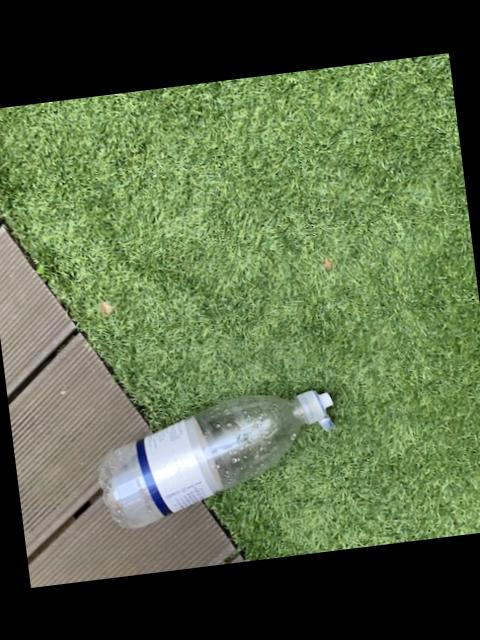plastic: (97, 389, 330, 526)
